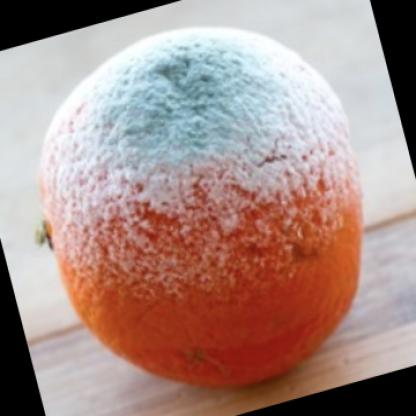rotten_orange: (39, 24, 365, 396)
